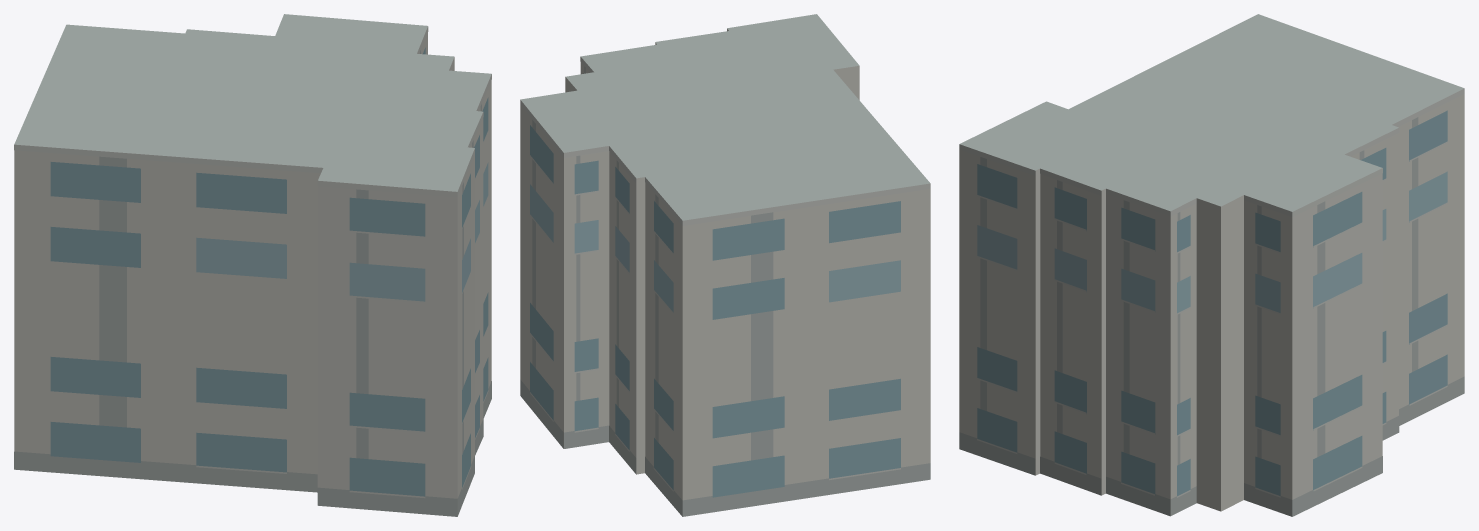
The model's file is survey-upis-32984119.glb.
The picture shows the model from 3 angles, left to right: view 1: azimuth 30°, elevation 25°; view 2: azimuth 150°, elevation 25°; view 3: azimuth 270°, elevation 25°; orthographic projection. The views are drawn at different scales.
Parts seen in each view (by area): view 1: survey-upis-32984119.tmp; view 2: survey-upis-32984119.tmp; view 3: survey-upis-32984119.tmp.
Part boxes in pixels (<box>): survey-upis-32984119.tmp: <box>14,14,491,516</box>; survey-upis-32984119.tmp: <box>520,14,930,516</box>; survey-upis-32984119.tmp: <box>959,14,1464,516</box>.
Size of the model in its own units: 19.49 by 14 by 21.03.
